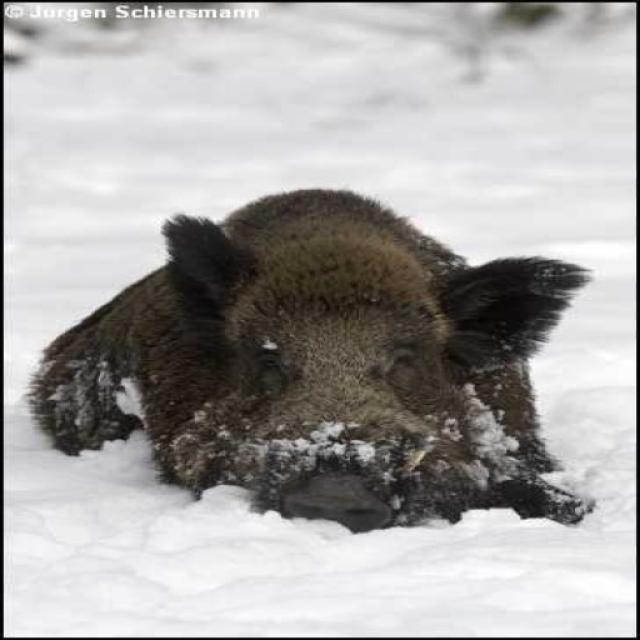pig: (19, 195, 599, 556)
